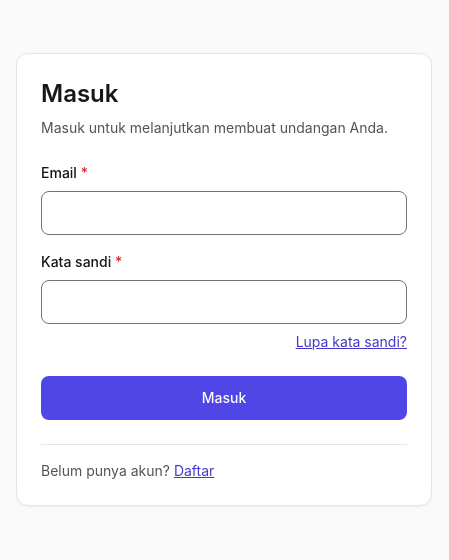
error states (card step 5) › tells the user how long to wait when rate limited
In the field labelled "Email *": (224, 212) left=41, top=190, right=407, bottom=234, type "budi@example.test"
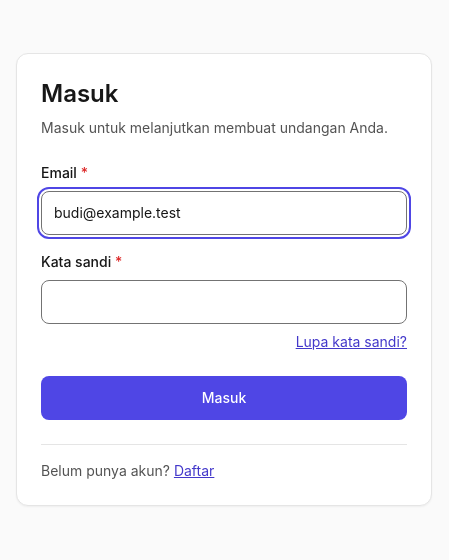
In the password field labelled "Kata sandi *": (224, 302) left=41, top=280, right=407, bottom=324, type "salah"
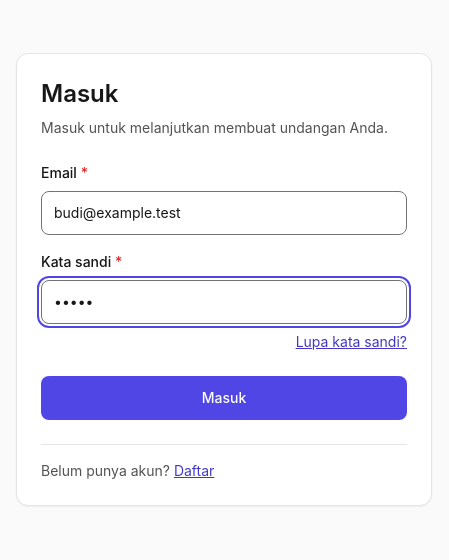
Click the button "Masuk": (224, 398) left=41, top=376, right=407, bottom=420
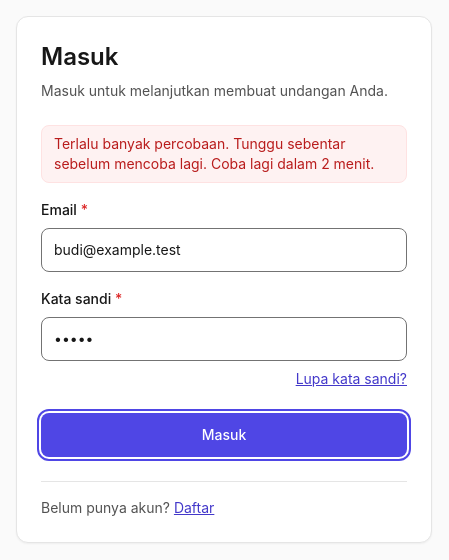
expect the message shows "2 menit": met, box left=54, top=134, right=374, bottom=172
